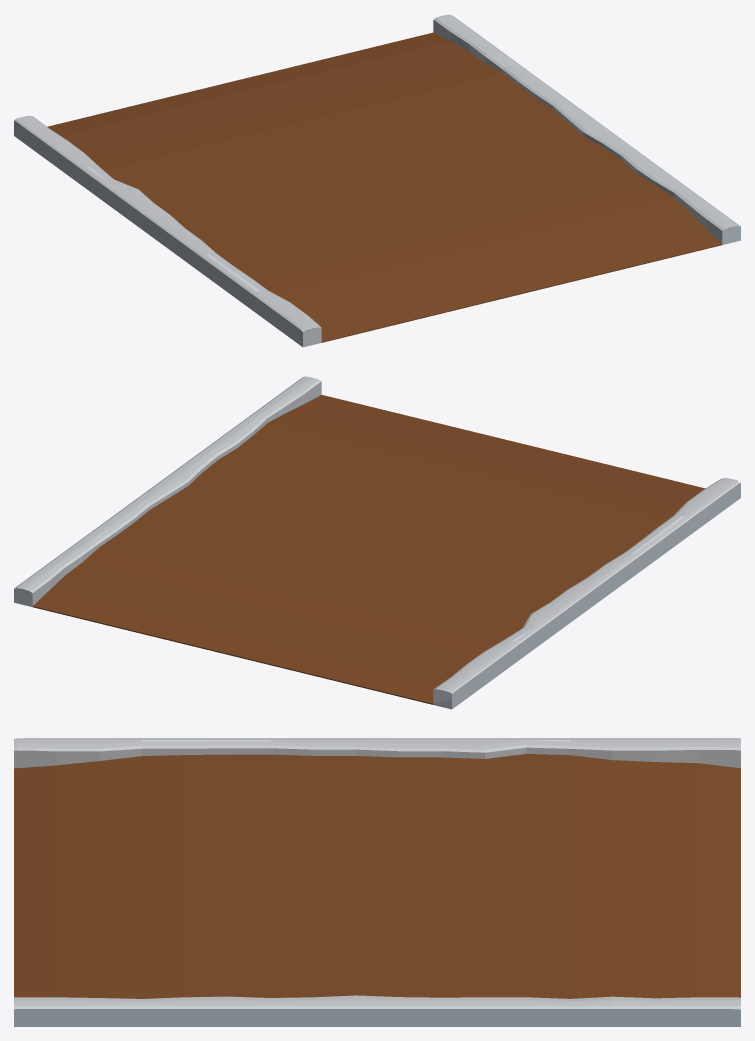
The model's file is Bridge.fbx.
3 renders of one model, top to bottom at view 1: azimuth 30°, elevation 25°; view 2: azimuth 150°, elevation 25°; view 3: azimuth 270°, elevation 25°, orthographic. The views are drawn at different scales.
Visible parts, largest first — view 1: Plane.001; view 2: Plane.001; view 3: Plane.001.
Boxes of the visible parts, x1,y1,x2,y2 form: Plane.001: [14, 14, 740, 347]; Plane.001: [14, 376, 740, 709]; Plane.001: [14, 738, 740, 1026].
Size of the model in its own units: 17.5 by 0.6498 by 20.
